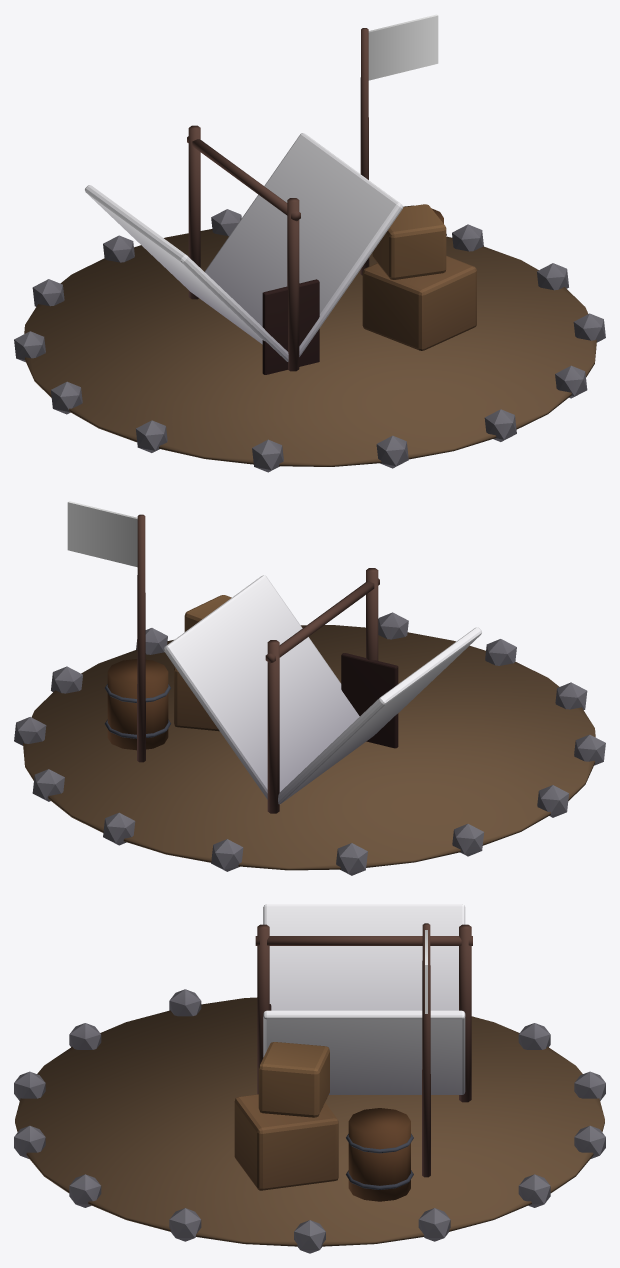
Rendered from camp_1.glb.
3 renders of one model, top to bottom at view 1: azimuth 30°, elevation 25°; view 2: azimuth 150°, elevation 25°; view 3: azimuth 270°, elevation 25°, orthographic. The views are drawn at different scales.
Parts seen in each view (by area): view 1: camp_1, team, flag; view 2: camp_1, team, flag; view 3: camp_1, team.
Boxes of the visible parts, bbox=[...] form: camp_1: bbox=[14, 28, 605, 472]; team: bbox=[85, 133, 403, 361]; flag: bbox=[368, 14, 438, 80]; camp_1: bbox=[14, 514, 605, 875]; team: bbox=[163, 575, 481, 804]; flag: bbox=[67, 501, 137, 567]; camp_1: bbox=[14, 923, 605, 1253]; team: bbox=[263, 904, 465, 1094].
Bounding box in the file's own units: 3.91 × 1.87 × 3.81.
